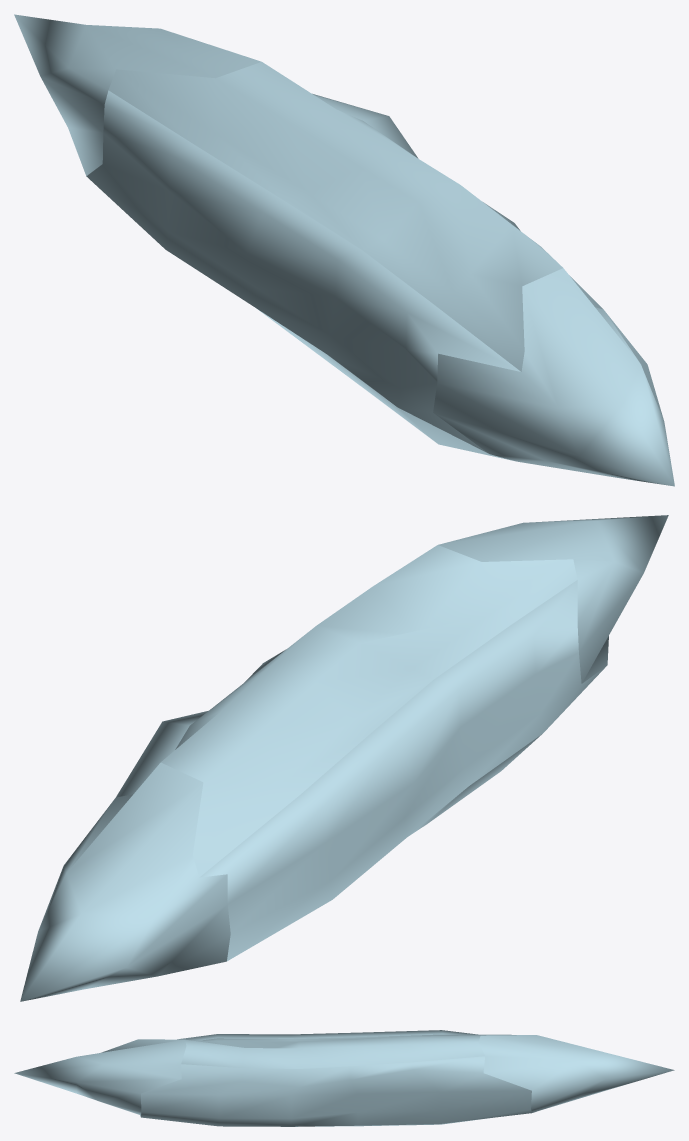
Rendered from IceShard.fbx.
The picture shows the model from 3 angles, top to bottom: view 1: azimuth 30°, elevation 25°; view 2: azimuth 150°, elevation 25°; view 3: azimuth 270°, elevation 25°; orthographic projection. The views are drawn at different scales.
Parts seen in each view (by area): view 1: pCube1; view 2: pCube1; view 3: pCube1.
Boxes of the visible parts, x1=… form: pCube1: x1=14, y1=14, x2=674, y2=486; pCube1: x1=20, y1=515, x2=668, y2=1001; pCube1: x1=14, y1=1030, x2=674, y2=1126.
Size of the model in its own units: 2.29 by 1.83 by 12.23.
